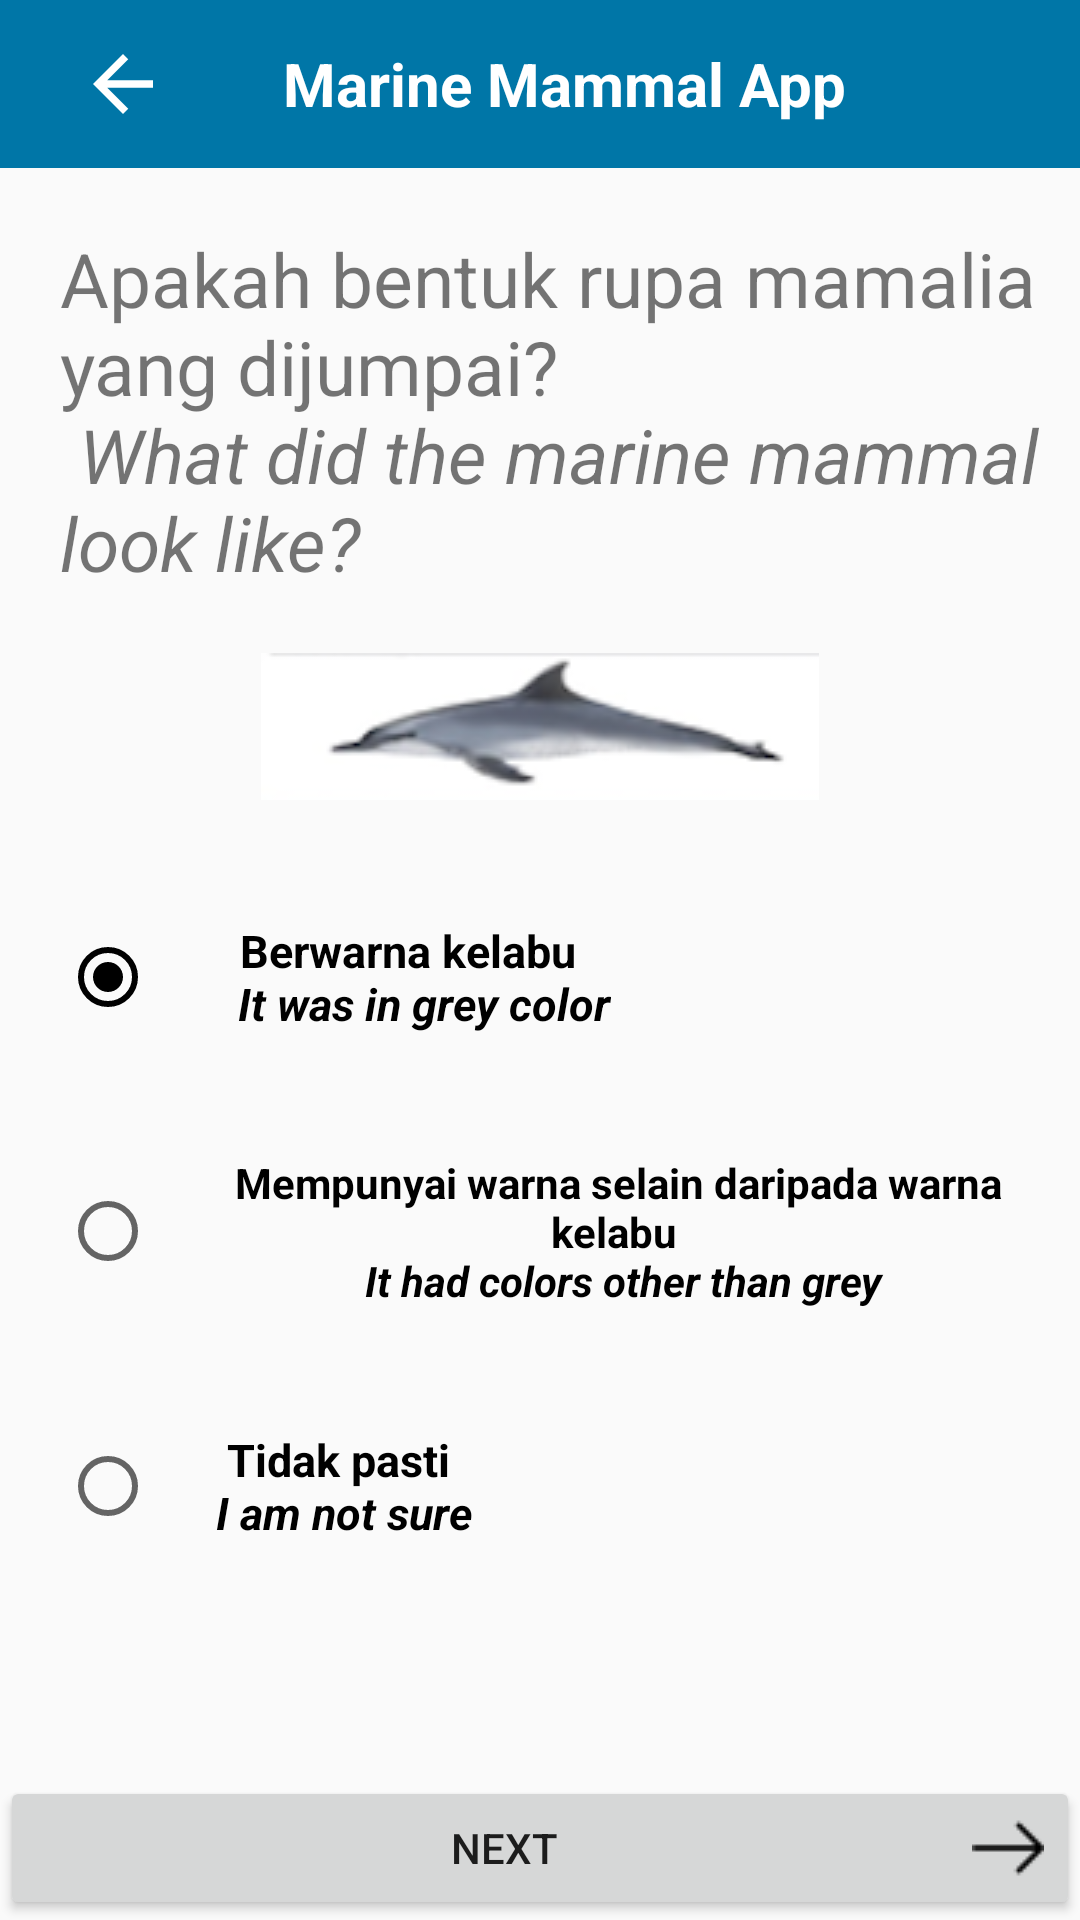

Icons on this 1080*1920 Android screen, each with its box as [x1, y1, x2, y2]:
Back button: [93, 54, 153, 114]
